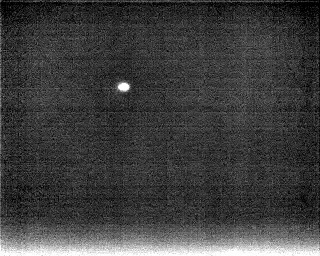AIRPLANE: (116, 79, 132, 95)
